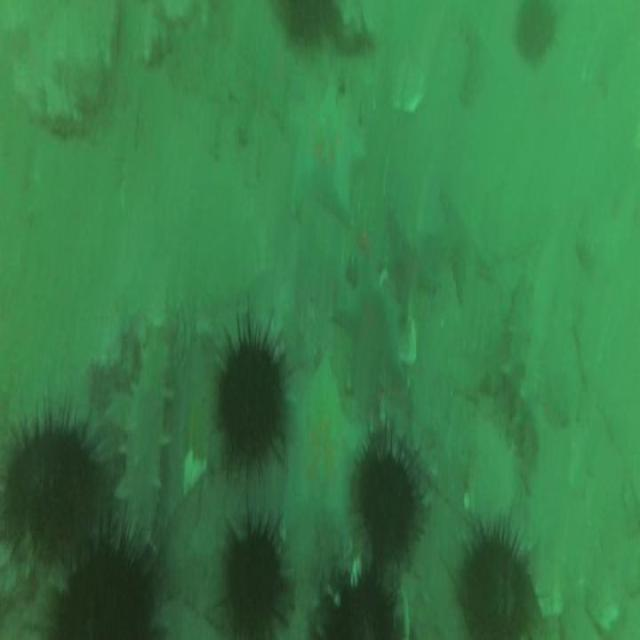echinus: (3, 419, 96, 564), (55, 542, 154, 640), (459, 529, 529, 640), (218, 343, 282, 461), (360, 455, 419, 563), (225, 526, 280, 637), (324, 578, 400, 640), (516, 0, 556, 62), (278, 2, 335, 42)
holothurian: (118, 337, 171, 550), (506, 266, 544, 432)
starfish: (284, 356, 367, 544), (282, 78, 366, 220), (332, 270, 406, 400), (436, 191, 496, 297), (385, 212, 440, 298)
